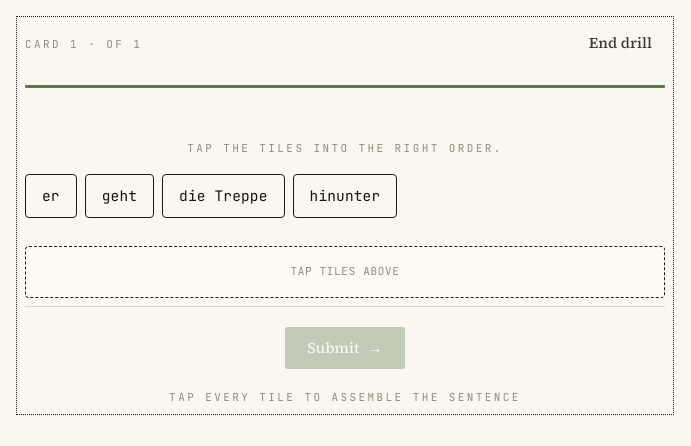
Test case: AssemblyRunner — tile drill › tapping a pool tile places it, tapping a placed tile returns it to the pool (round-trip)
Click the button "geht" at (119, 196), box [85,174,154,218]
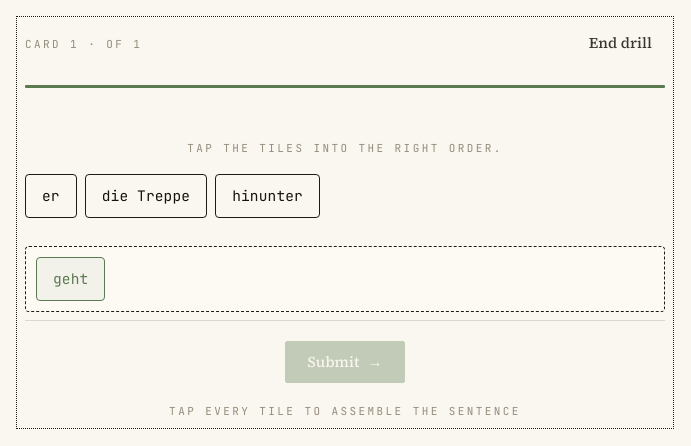
Click the button "er" at (51, 196), box [25,174,77,218]
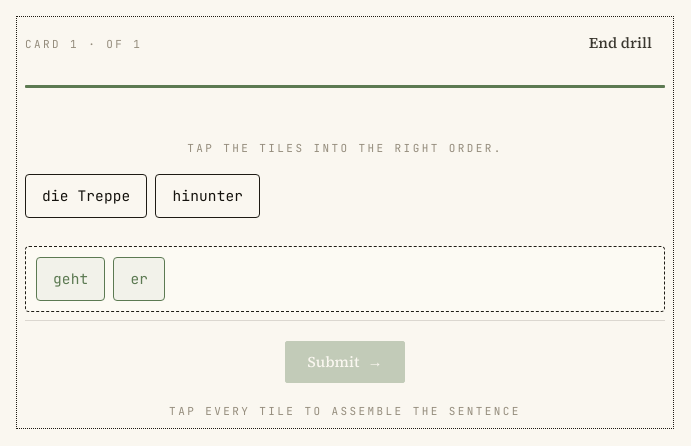
Expected: the button with class "asm-tile" reads "geht"
Expected: the button with class "asm-tile" reads "er", [113,257,165,301]
Click the button with class "asm-tile" showing "geht" at (71, 279), box [36,257,105,301]
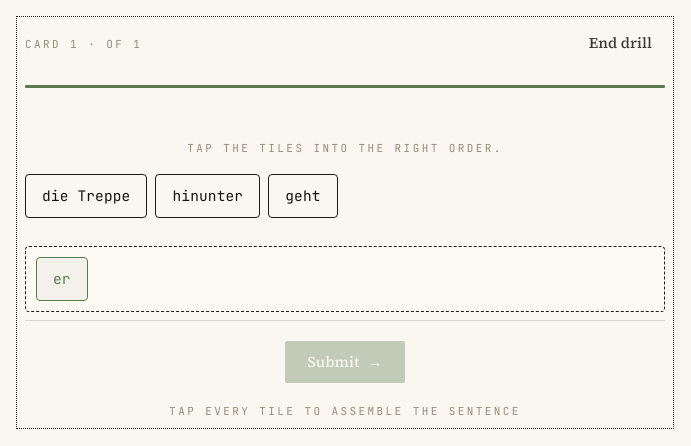
Expected: the button with class "asm-tile" reads "er", [36,257,88,301]
